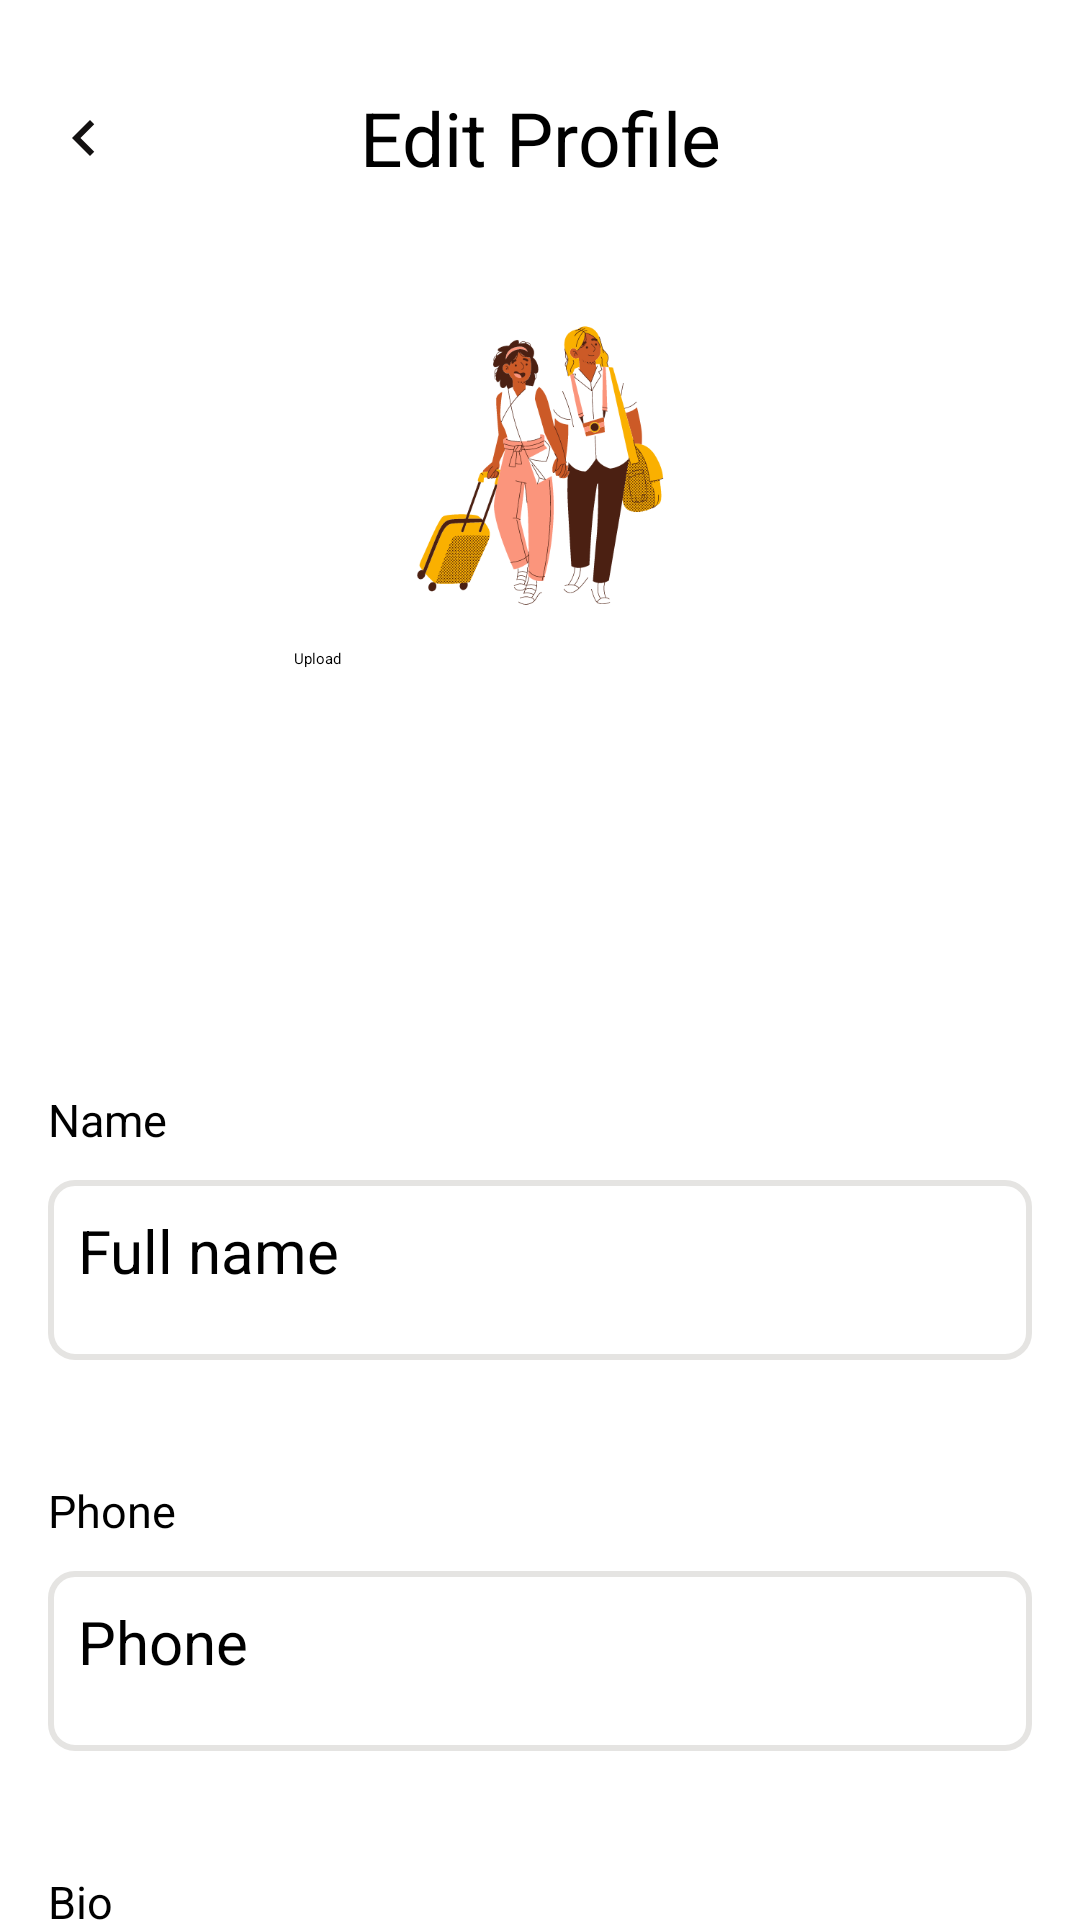

Where icons sit on this 1080×1920 app screen, as (x1, y1, x2, y2):
chevron left: (72, 120, 94, 156)
